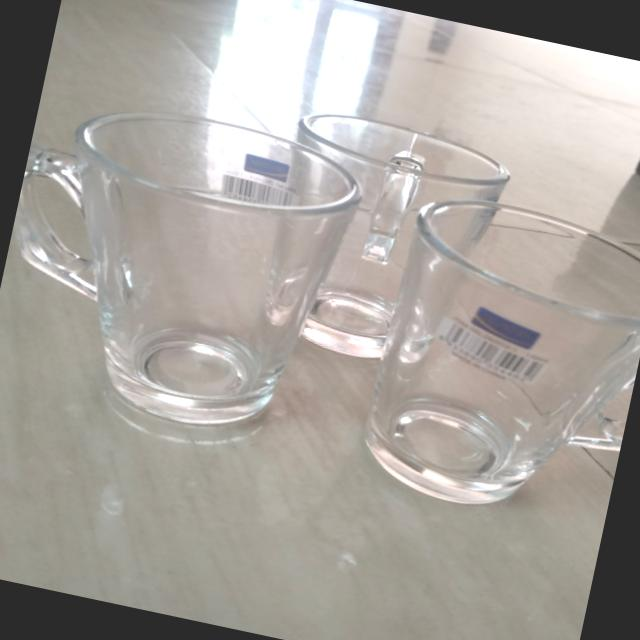glass-VX4N: (0, 84, 370, 456), (354, 188, 640, 538), (250, 104, 503, 380)
